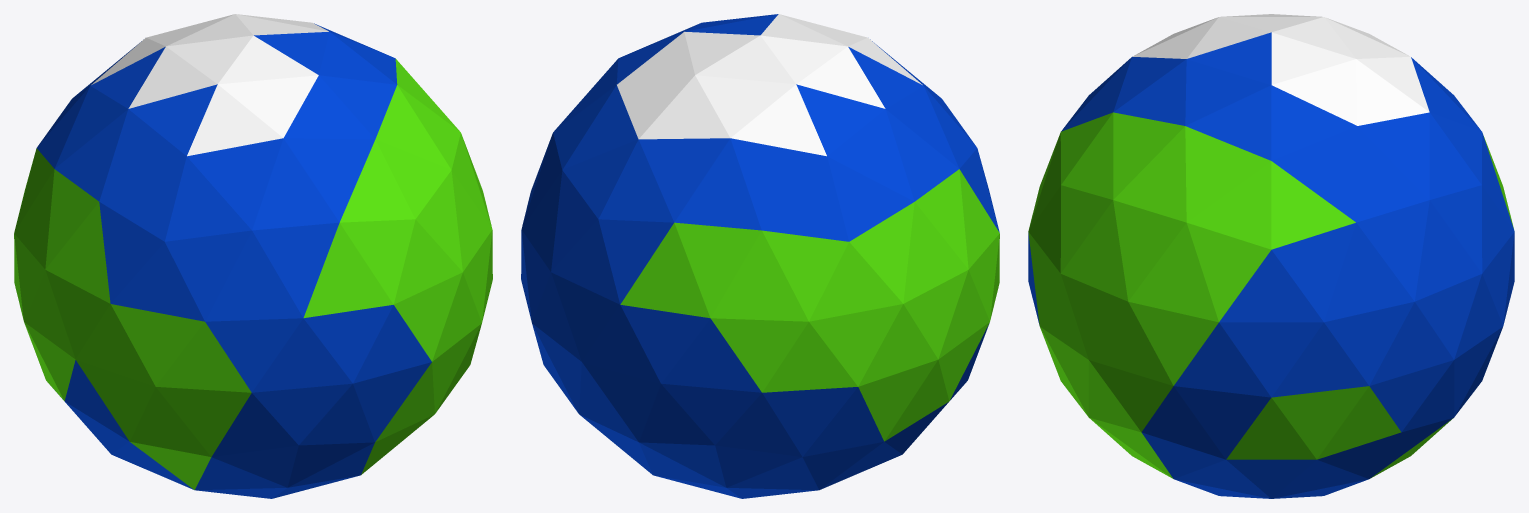
The model's file is EARTH.FBX.
The picture shows the model from 3 angles, left to right: view 1: azimuth 30°, elevation 25°; view 2: azimuth 150°, elevation 25°; view 3: azimuth 270°, elevation 25°; orthographic projection.
Parts seen in each view (by area): view 1: GeoSphere001; view 2: GeoSphere001; view 3: GeoSphere001.
Boxes of the visible parts, x1=… form: GeoSphere001: x1=14, y1=14, x2=492, y2=498; GeoSphere001: x1=521, y1=14, x2=999, y2=498; GeoSphere001: x1=1028, y1=14, x2=1514, y2=498.
Bounding box in the file's own units: 84.76 × 86.01 × 84.55.
